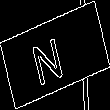N_N: (36, 25, 74, 85)
